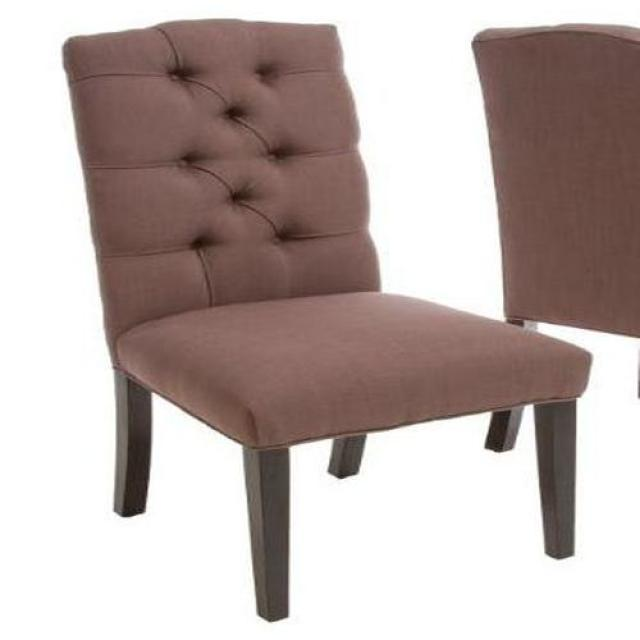chair: (61, 20, 593, 625)
